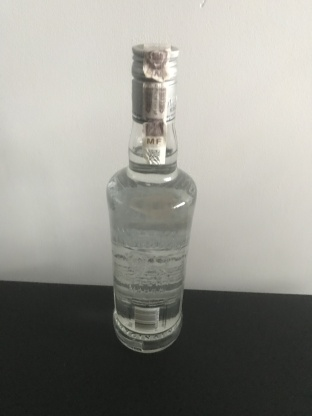nakretka: (129, 39, 180, 124)
